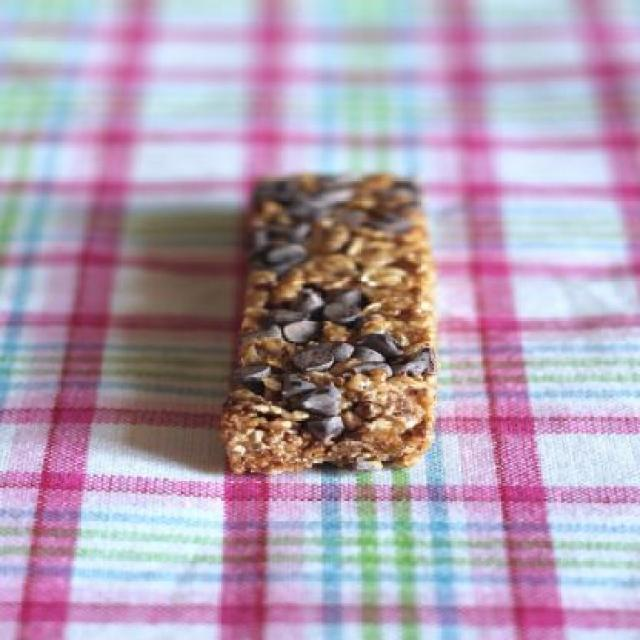Cereal bar packaged: (216, 168, 437, 470)
